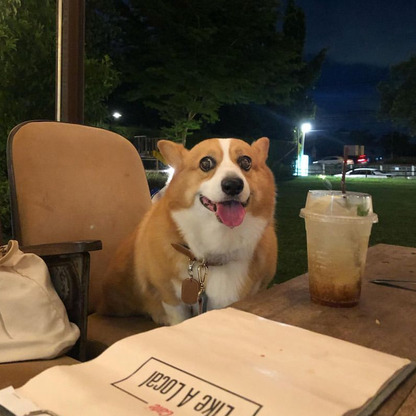Corgi: (124, 115, 287, 335)
